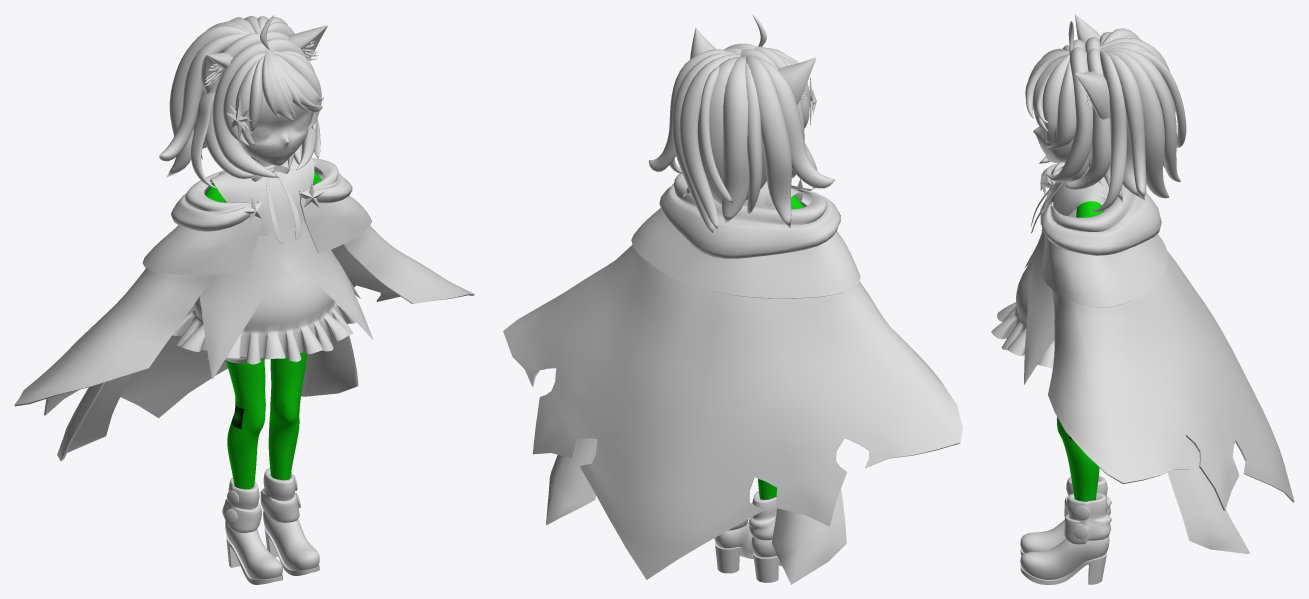
The model's file is AInabi_1001.fbx.
The picture shows the model from 3 angles, left to right: view 1: azimuth 30°, elevation 25°; view 2: azimuth 150°, elevation 25°; view 3: azimuth 270°, elevation 25°; orthographic projection.
Visible parts, largest first — view 1: polySurface95, polySurface84, polySurface62, polySurface96, shoes_L_polySurface61 (×2), body_L, pCube170, polySurface59, body_R, pCylinder26 (×2), face, pCube181 (+14 smaller); view 2: polySurface95, polySurface96, pCube170, pCube181, pCube154, pCube148, pCube146, pCube185, shoes_L_polySurface61 (×2), pCube176, pCube121, pCube149 (+5 smaller); view 3: polySurface95, polySurface96, pCube170, pCube185, shoes_L_polySurface61 (×2), polySurface84, pCube147, pCube172, pCube119, pCube151, polySurface62, pCylinder26 (×2) (+13 smaller).
Part boxes in pixels (left/top/right/bottom): polySurface95: left=14, top=225, right=474, bottom=418; polySurface84: left=200, top=171, right=373, bottom=379; polySurface62: left=172, top=260, right=356, bottom=364; polySurface96: left=142, top=191, right=371, bottom=274; shoes_L_polySurface61 (×2): left=225, top=510, right=319, bottom=584; body_L: left=204, top=183, right=265, bottom=489; pCube170: left=170, top=158, right=352, bottom=231; polySurface59: left=204, top=158, right=314, bottom=238; body_R: left=268, top=171, right=321, bottom=480; pCylinder26 (×2): left=222, top=468, right=299, bottom=532; face: left=240, top=91, right=311, bottom=166; pCube181: left=57, top=373, right=131, bottom=460; polySurface95: left=503, top=245, right=962, bottom=579; polySurface96: left=631, top=200, right=860, bottom=298; pCube170: left=659, top=173, right=840, bottom=258; pCube181: left=772, top=458, right=846, bottom=584; pCube154: left=745, top=56, right=791, bottom=228; pCube148: left=721, top=56, right=748, bottom=223; pCube146: left=679, top=54, right=740, bottom=229; pCube185: left=546, top=438, right=597, bottom=524; shoes_L_polySurface61 (×2): left=714, top=522, right=782, bottom=582; pCube176: left=755, top=57, right=834, bottom=188; pCube121: left=697, top=57, right=740, bottom=204; pCube149: left=745, top=61, right=762, bottom=214; polySurface95: left=1048, top=251, right=1294, bottom=510; polySurface96: left=1041, top=182, right=1167, bottom=307; pCube170: left=1041, top=162, right=1161, bottom=255; pCube185: left=1167, top=436, right=1250, bottom=553; shoes_L_polySurface61 (×2): left=1020, top=520, right=1109, bottom=584; polySurface84: left=1024, top=191, right=1107, bottom=384; pCube147: left=1103, top=50, right=1169, bottom=198; pCube172: left=1090, top=50, right=1126, bottom=211; pCube119: left=1046, top=47, right=1092, bottom=182; pCube151: left=1106, top=52, right=1146, bottom=197; polySurface62: left=991, top=258, right=1054, bottom=368; pCylinder26 (×2): left=1064, top=476, right=1111, bottom=544.
Size of the model in its own units: 70.97 by 81.71 by 40.67.
